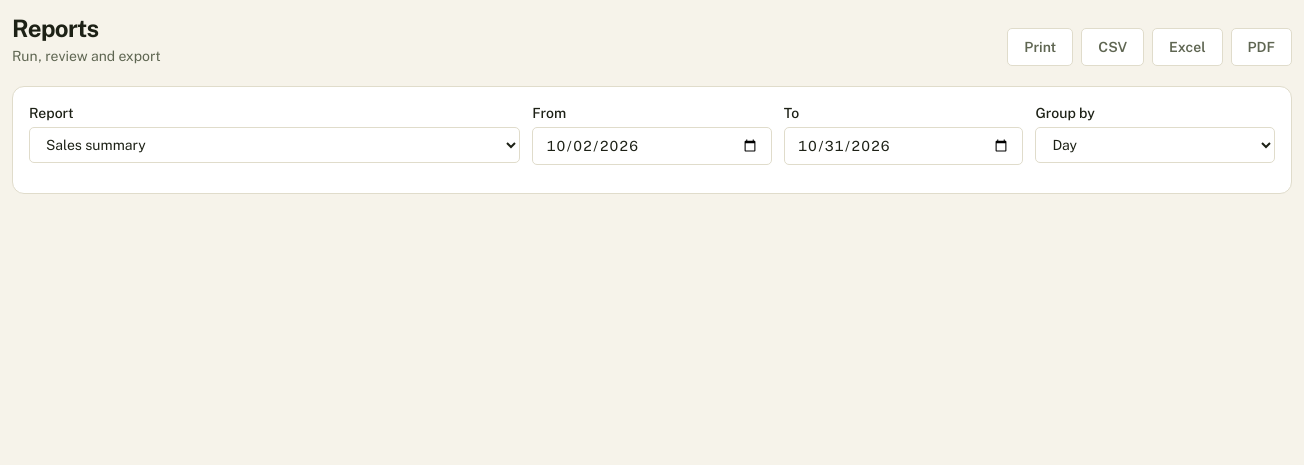
it: damaged stock report › is listed under Reports and shows every required column and a loss total
Select "Damaged stock" in the dropdown labelled "Report" at (275, 145), box [29,127,520,163]
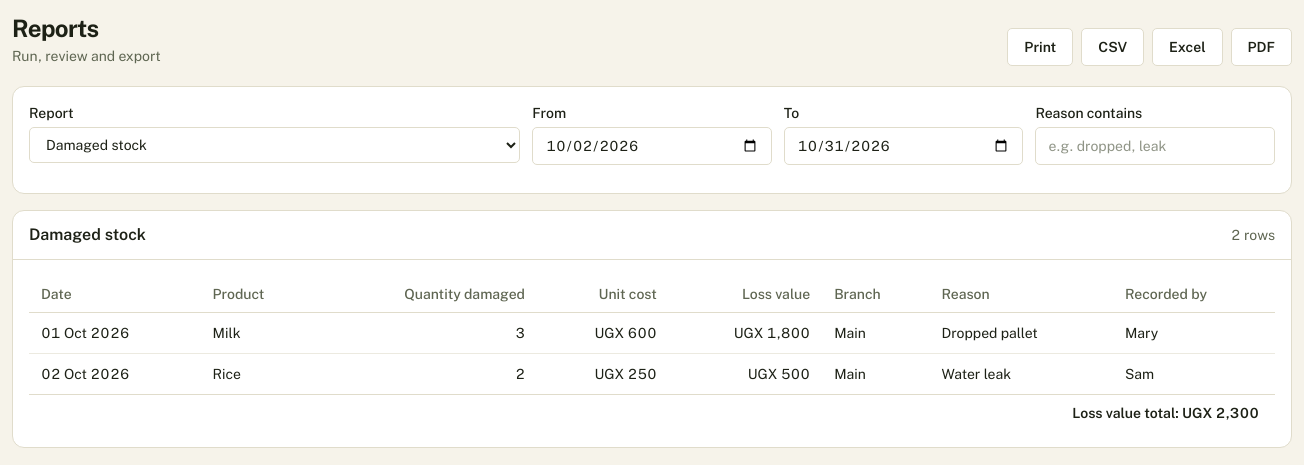
Expected: the text "Dropped pallet" is shown, [930,312,1113,354]
Expected: the column heading "Date" is shown, [29,276,201,312]
Expected: the column heading "Product" is shown, [201,276,316,312]
